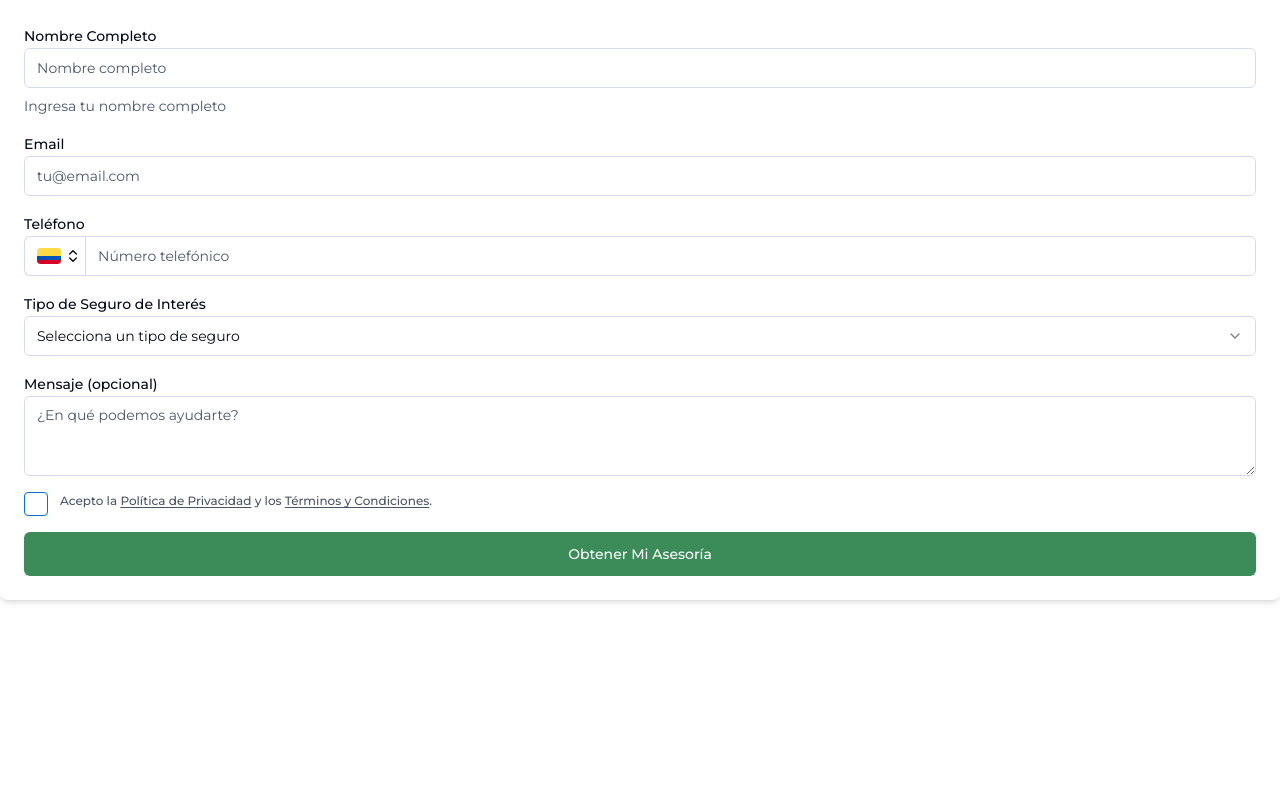
Test: LeadForm › Form Validation › shows every message in Spanish when submitted empty
Click the button "Obtener Mi Asesoría" at (640,554), box [24, 532, 1256, 576]
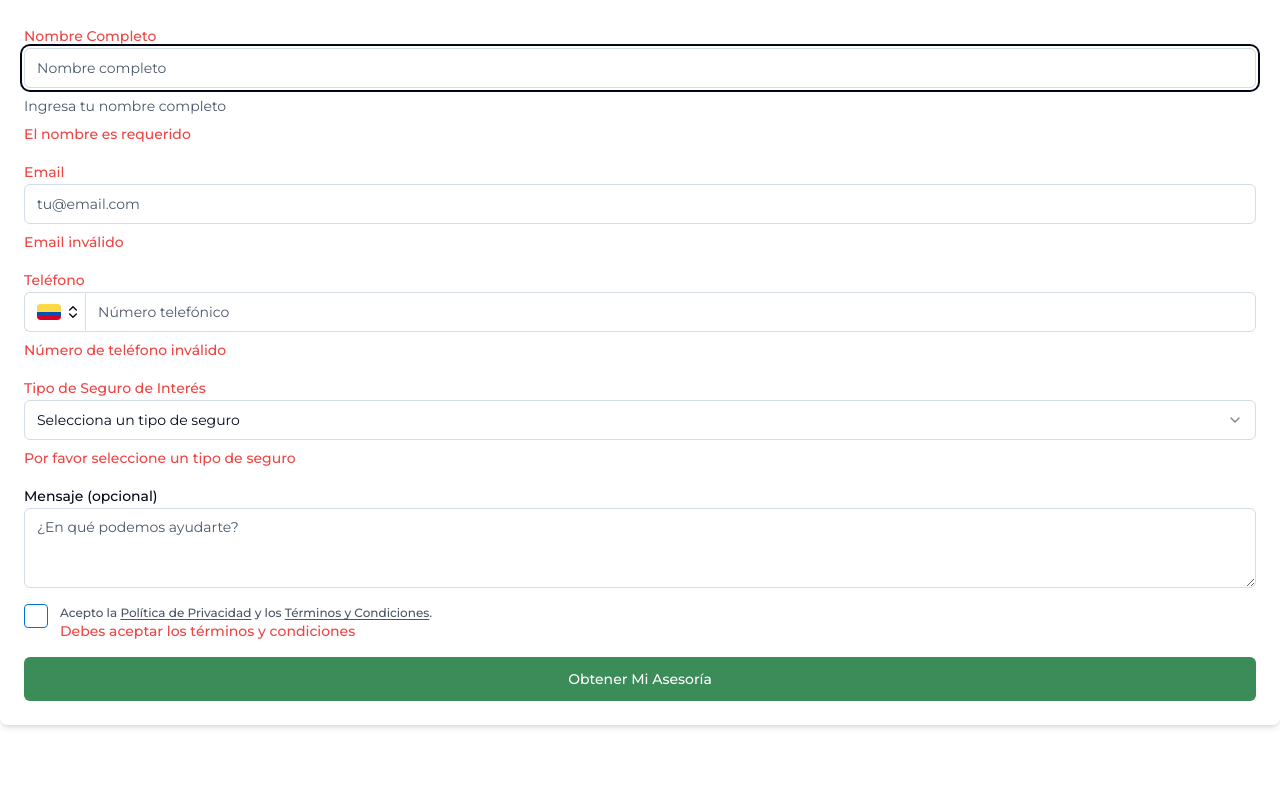
Result: the text "El nombre es requerido" is shown at [24, 125, 191, 143]
Result: the text "Email inválido" is shown at [24, 233, 124, 251]
Result: the text "Número de teléfono inválido" is shown at [24, 341, 226, 359]
